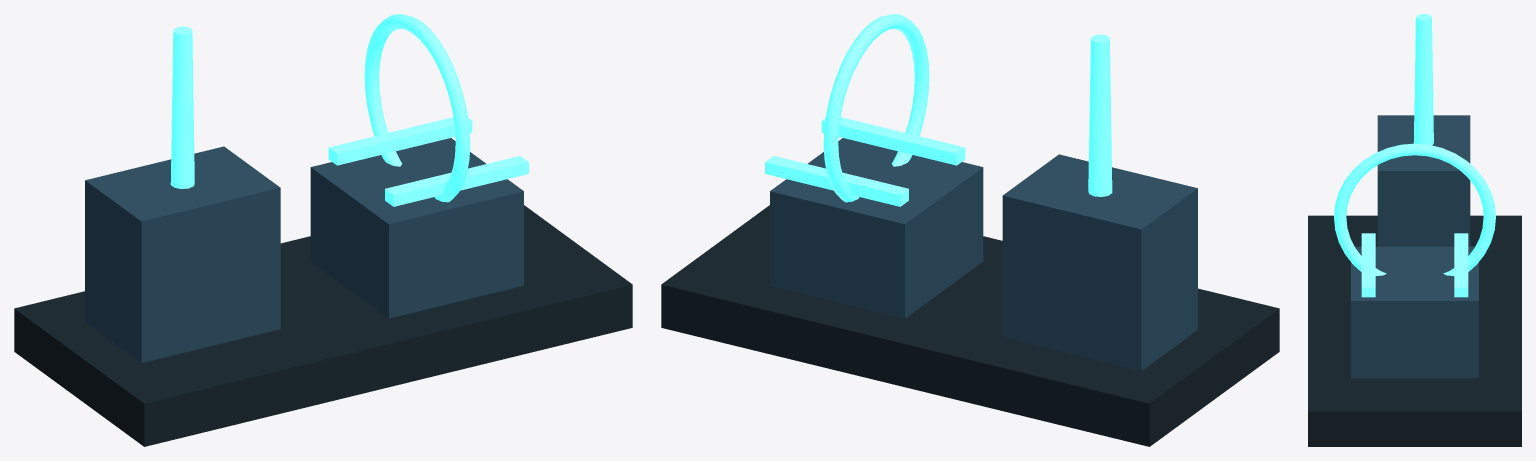
File: extraction-beacon-kit.glb
3 views of the same model, side by side, from view 1: azimuth 30°, elevation 25°; view 2: azimuth 150°, elevation 25°; view 3: azimuth 270°, elevation 25° (orthographic). The views are drawn at different scales.
Visible parts, largest first — view 1: extraction-equipment-plinth, beacon-power-bank, exfil-control-core, vertical-extraction-halo, exfil-light-mast, green-exfil-arrow-left, green-exfil-arrow-right; view 2: extraction-equipment-plinth, beacon-power-bank, exfil-control-core, vertical-extraction-halo, exfil-light-mast, green-exfil-arrow-right, green-exfil-arrow-left; view 3: extraction-equipment-plinth, exfil-control-core, beacon-power-bank, vertical-extraction-halo, exfil-light-mast, green-exfil-arrow-left, green-exfil-arrow-right.
Boxes of the visible parts, x1,y1,x2,y2 form: extraction-equipment-plinth: [14, 205, 632, 446]; beacon-power-bank: [85, 146, 280, 362]; exfil-control-core: [310, 138, 523, 318]; vertical-extraction-halo: [364, 14, 470, 202]; exfil-light-mast: [170, 26, 194, 188]; green-exfil-arrow-left: [328, 117, 472, 165]; green-exfil-arrow-right: [385, 156, 528, 206]; extraction-equipment-plinth: [661, 205, 1279, 446]; beacon-power-bank: [1002, 154, 1197, 370]; exfil-control-core: [770, 138, 983, 318]; vertical-extraction-halo: [823, 14, 929, 202]; exfil-light-mast: [1088, 34, 1112, 196]; green-exfil-arrow-right: [821, 117, 965, 165]; green-exfil-arrow-left: [765, 156, 908, 206]; extraction-equipment-plinth: [1308, 215, 1521, 446]; exfil-control-core: [1351, 246, 1478, 378]; beacon-power-bank: [1377, 115, 1470, 246]; vertical-extraction-halo: [1334, 143, 1495, 275]; exfil-light-mast: [1413, 14, 1433, 145]; green-exfil-arrow-left: [1454, 233, 1468, 297]; green-exfil-arrow-right: [1361, 233, 1375, 297].
Bounding box in the file's own units: 2.6 × 1.72 × 1.2.
